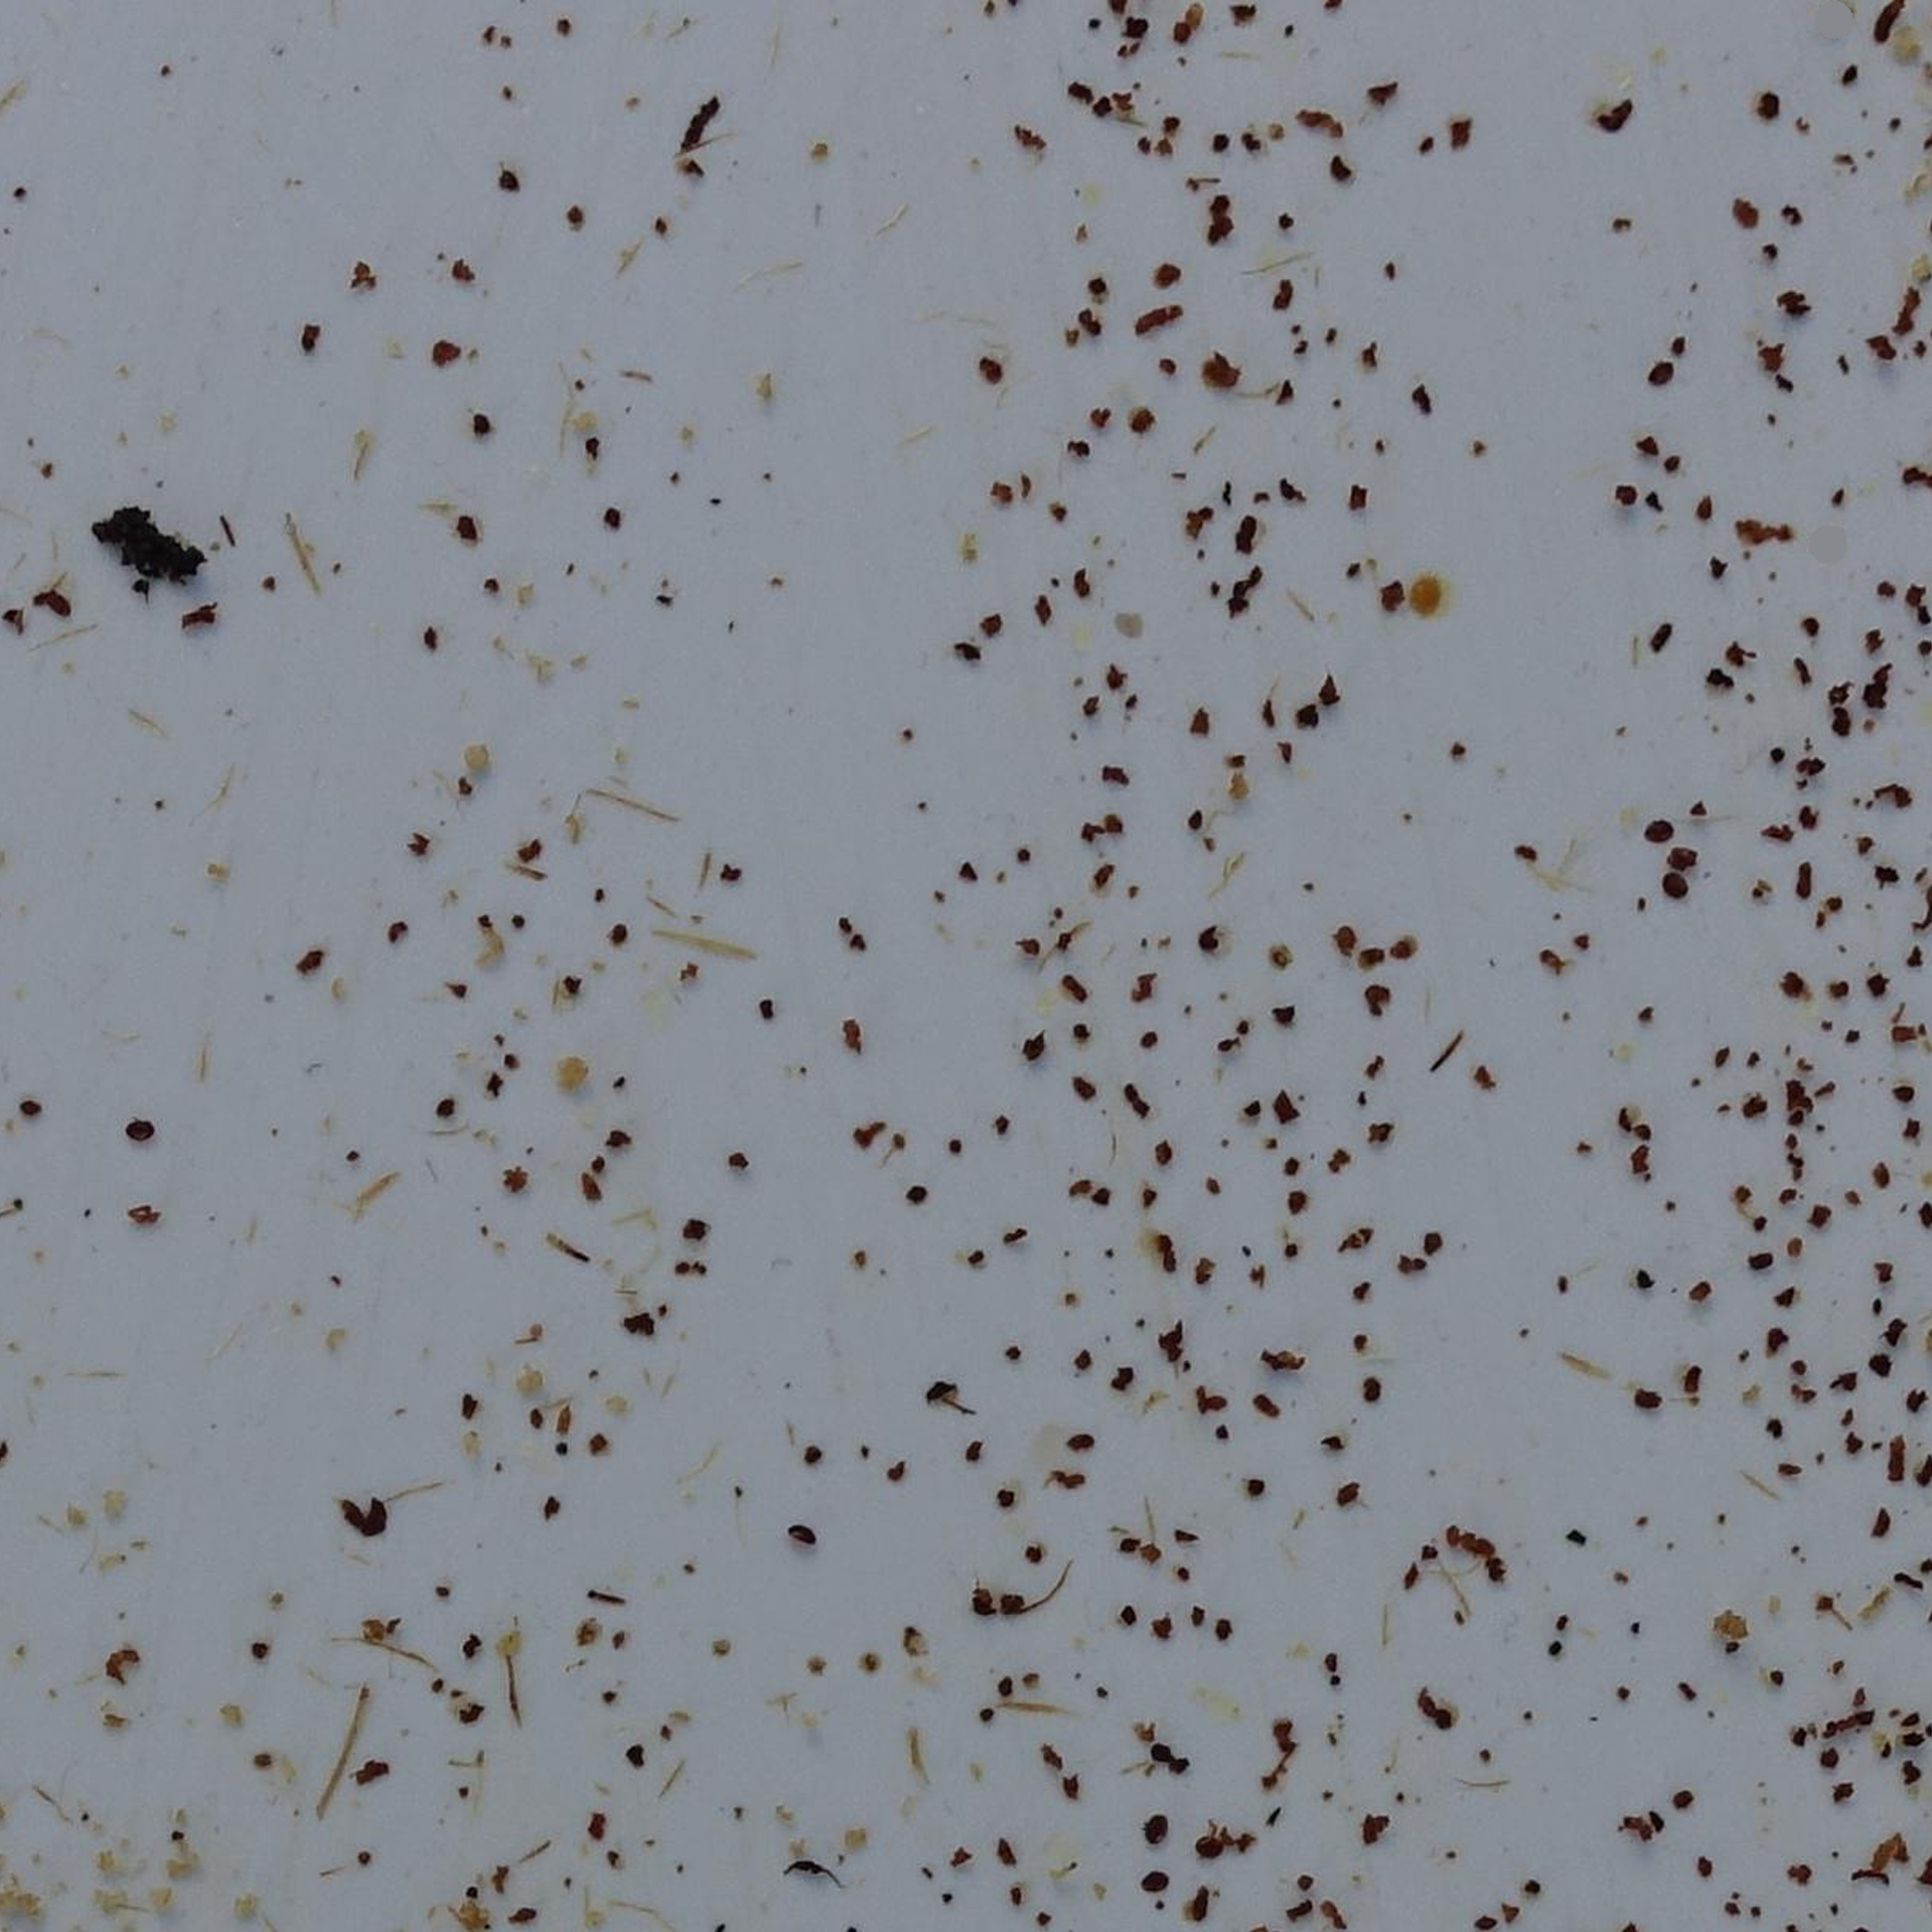Varroa: (1654, 359, 1675, 382), (1651, 819, 1670, 840), (133, 1120, 152, 1139), (1146, 1817, 1166, 1836), (1200, 1835, 1219, 1854), (1145, 1872, 1162, 1890), (796, 1527, 814, 1545), (1668, 874, 1684, 892)
